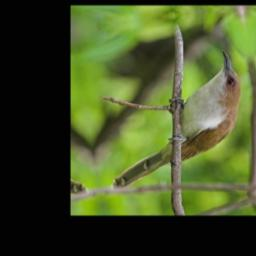Cuckoo: (91, 48, 256, 190)
